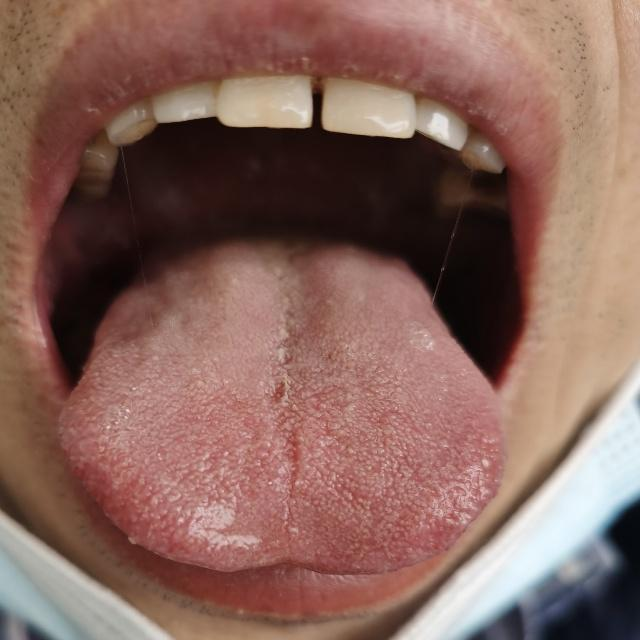baitaishe: (58, 239, 505, 577)
hongshe: (57, 238, 504, 576)
